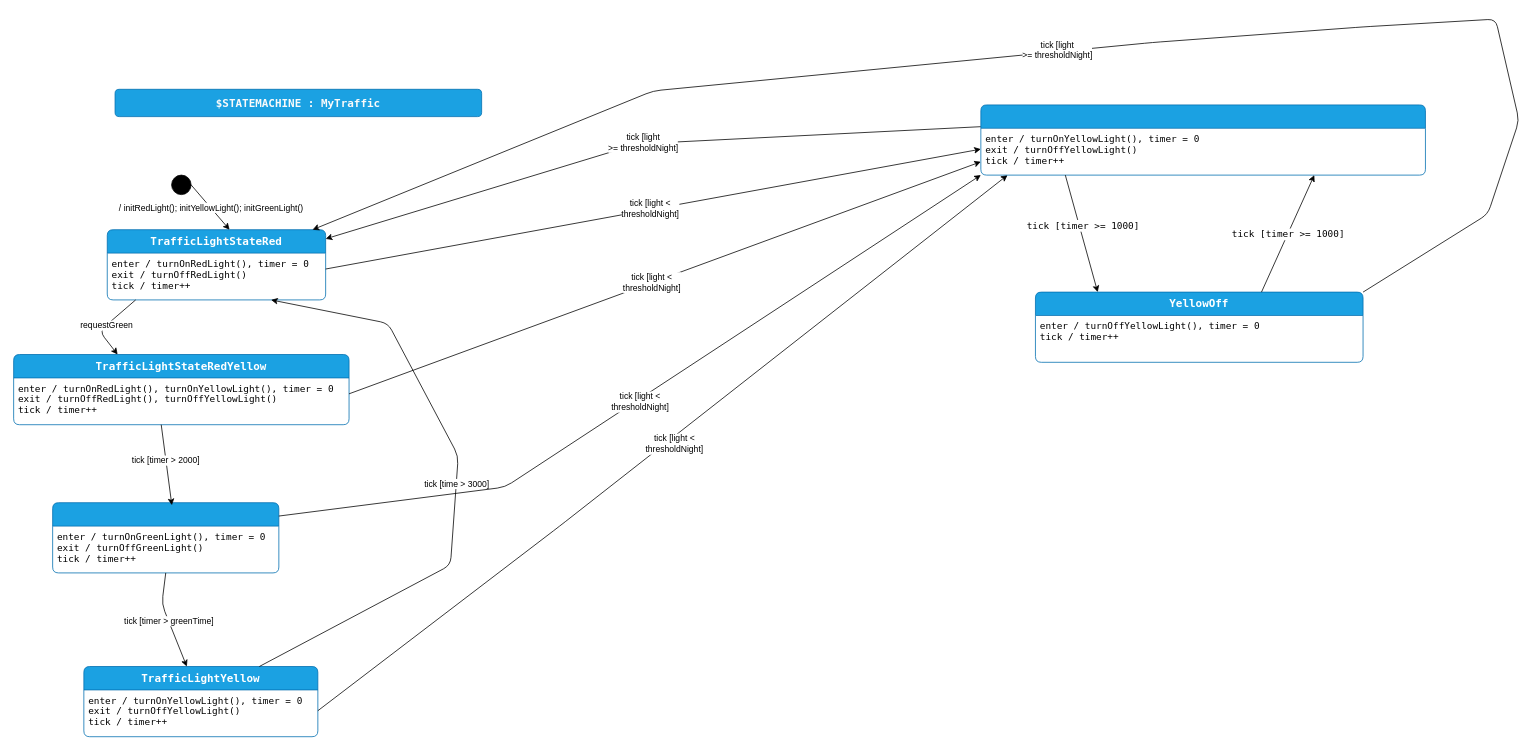
Image size: 1539x750. Some labels were removed from this diagram. Here are the shapes that lost their labels. From the top down, the box of each, then its label:
(980, 104, 1425, 175): YellowOn
(52, 502, 279, 573): TrafficLightGreen
